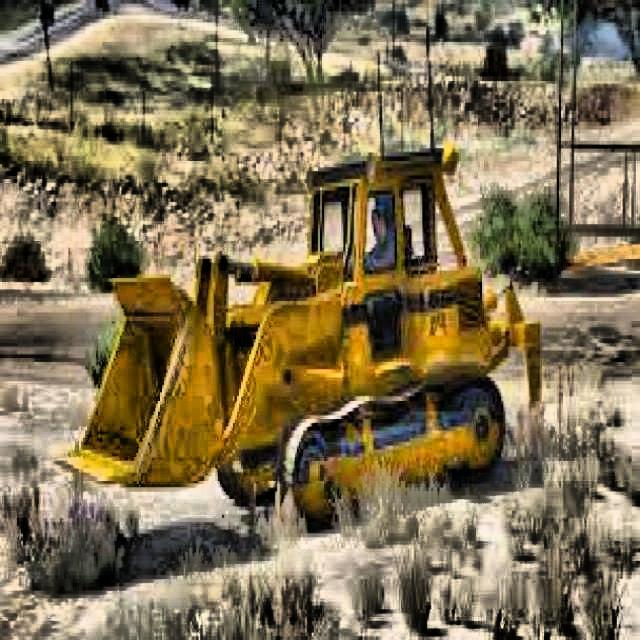bull_dozer/loader/grader: (54, 144, 544, 532)
person: (367, 203, 398, 270)
